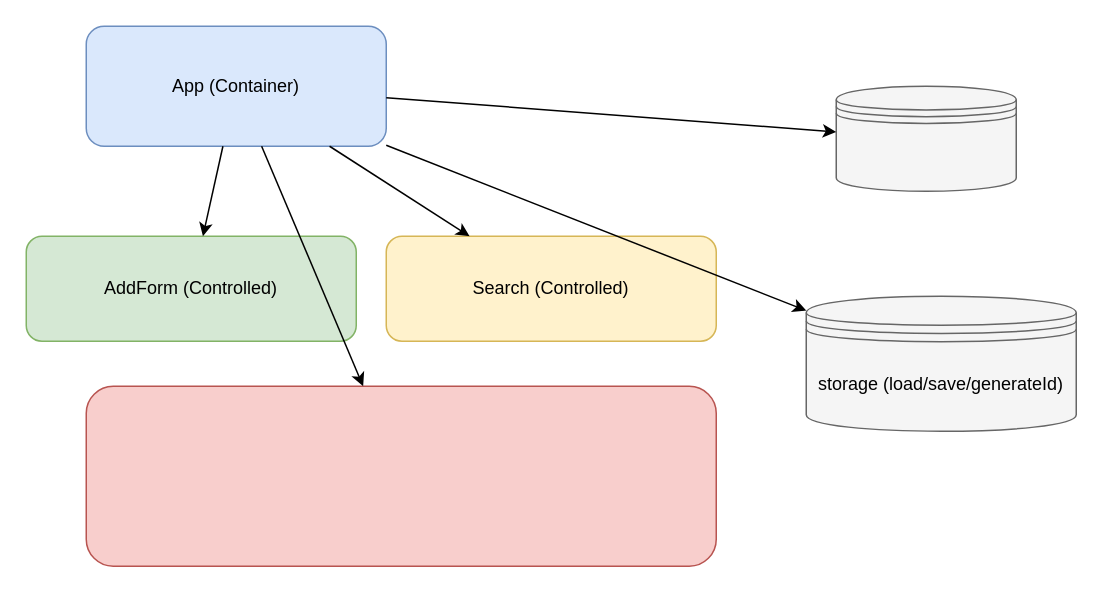
The diagram is 1103 pixels wide and 593 high, and some of its shapes have lost their labels. The centre of each missing label's shape, as x and y in pixels:
"Table (Editable Rows)" goes at (x=400, y=475).
"types.Book" goes at (x=925, y=138).
